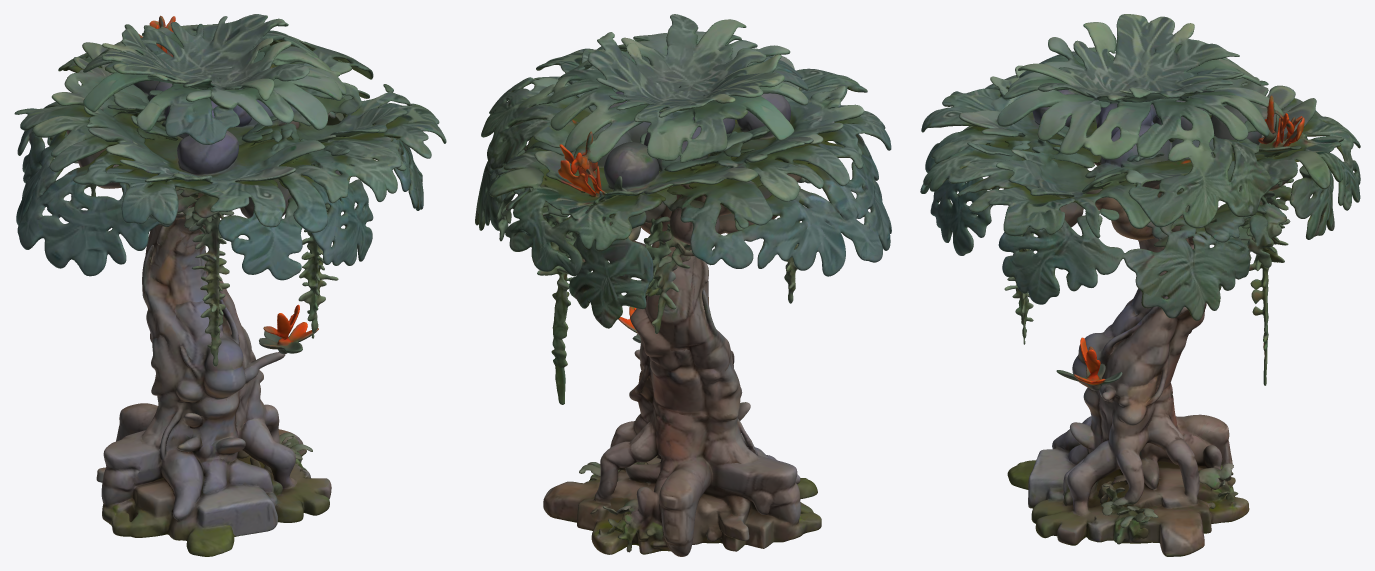
Rendered from jungle-tree.glb.
3 views of the same model, side by side, from view 1: azimuth 30°, elevation 25°; view 2: azimuth 150°, elevation 25°; view 3: azimuth 270°, elevation 25° (orthographic). The views are drawn at different scales.
Parts seen in each view (by area): view 1: tripo_node_1cda5f3c-4482-40e6-9505-01b0d73f3e72; view 2: tripo_node_1cda5f3c-4482-40e6-9505-01b0d73f3e72; view 3: tripo_node_1cda5f3c-4482-40e6-9505-01b0d73f3e72.
Boxes of the visible parts, <box> form: tripo_node_1cda5f3c-4482-40e6-9505-01b0d73f3e72: <box>14,14,446,556</box>; tripo_node_1cda5f3c-4482-40e6-9505-01b0d73f3e72: <box>475,14,891,556</box>; tripo_node_1cda5f3c-4482-40e6-9505-01b0d73f3e72: <box>920,14,1360,556</box>.
Size of the model in its own units: 0.8588 by 1 by 0.8824.
Materials: 1 (1 with a texture image).
